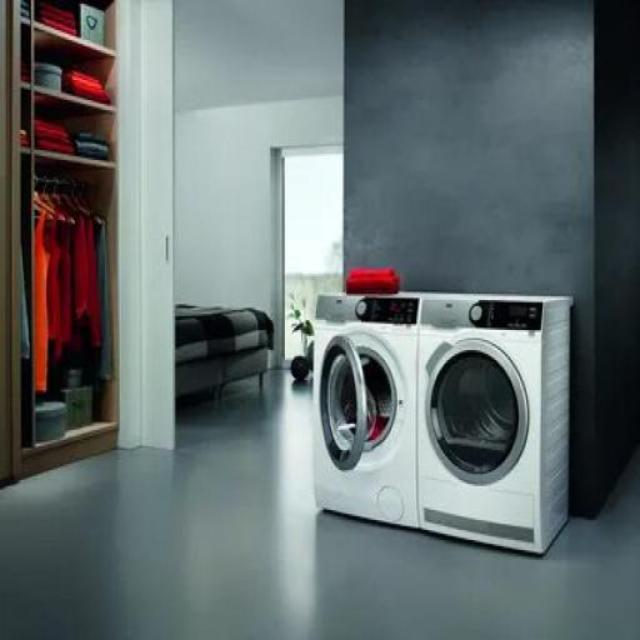Washing-Machine: (420, 292, 572, 544), (318, 289, 420, 527)
